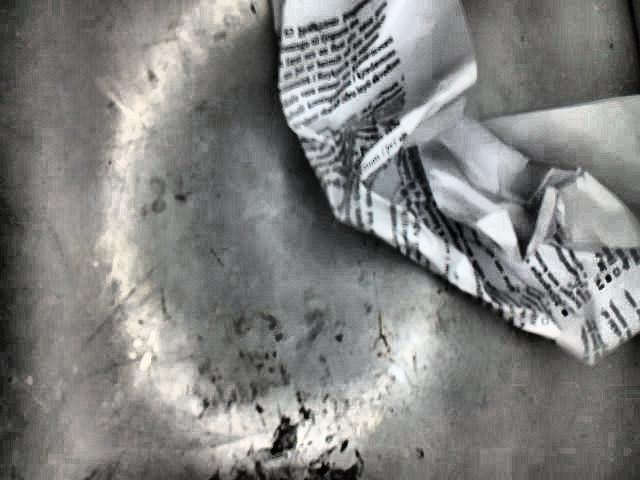Paper: (271, 1, 639, 361)
